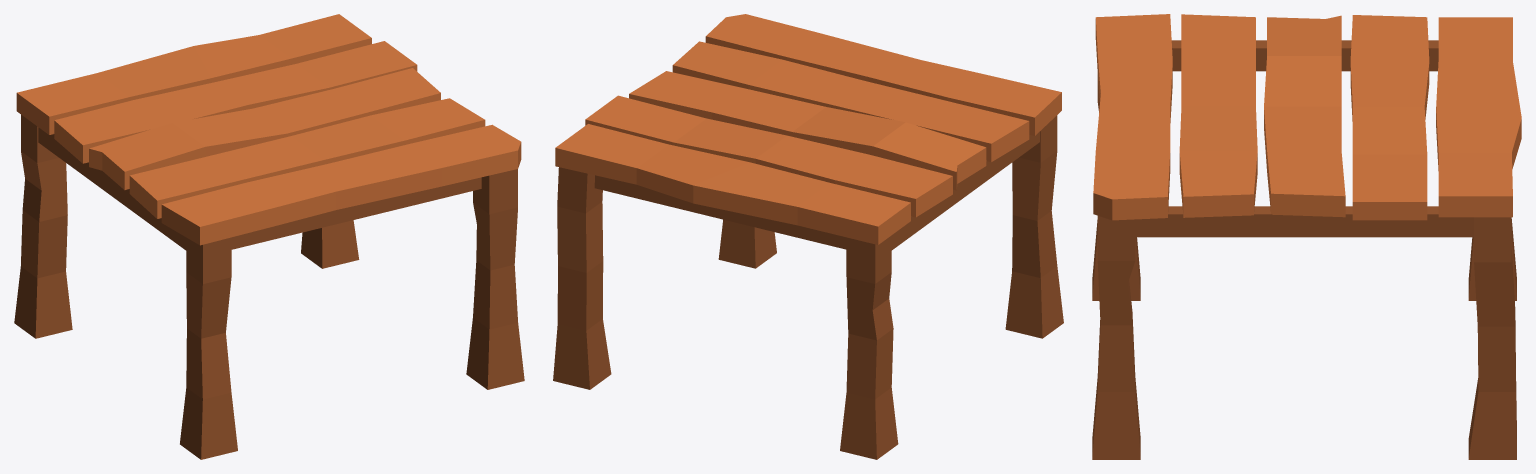
File: Table 2.glb
3 views of the same model, side by side, from view 1: azimuth 30°, elevation 25°; view 2: azimuth 150°, elevation 25°; view 3: azimuth 270°, elevation 25° (orthographic). The views are drawn at different scales.
Visible parts, largest first — view 1: Table1; view 2: Table1; view 3: Table1.
Part boxes in pixels (left/top/right/bottom): Table1: left=14, top=14, right=524, bottom=459; Table1: left=553, top=14, right=1063, bottom=459; Table1: left=1092, top=14, right=1521, bottom=459.
Size of the model in its own units: 0.9461 by 0.6376 by 0.9208.
